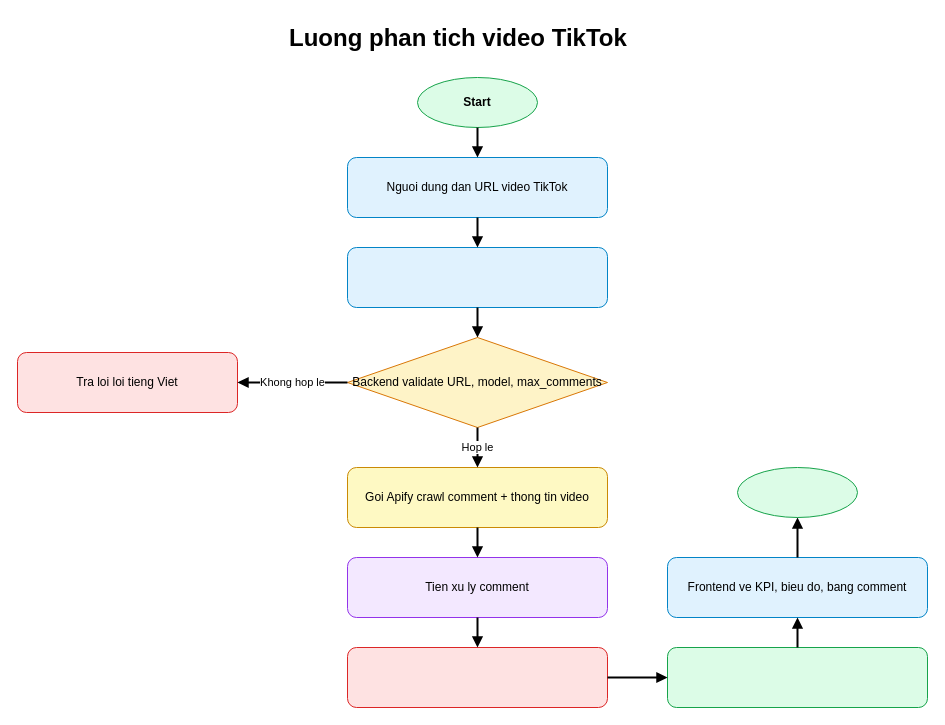
Some shapes in this 945 by 725 pixel diagram are drawn without their labels. Here are the shapes that lost their labels. From the top down, the centre of each, then its label:
pixel 477 277: Frontend goi POST /analyze/video
pixel 797 492: End
pixel 477 677: PhoBERT tokenize + inference
pixel 797 677: Tong hop summary, confidence, details
